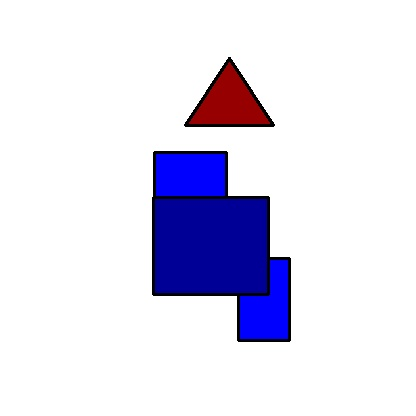rectangle: (153, 197, 268, 294), (154, 152, 226, 249), (238, 258, 289, 340)
triangle: (185, 58, 273, 125)
